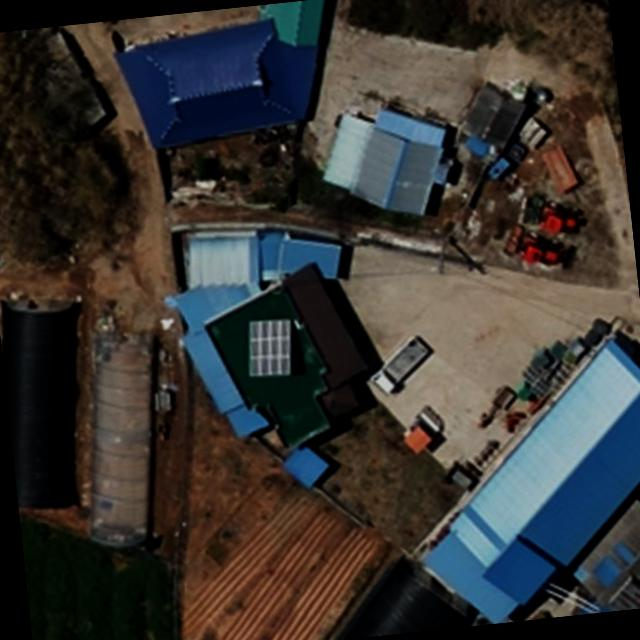solar: (242, 317, 298, 381)
